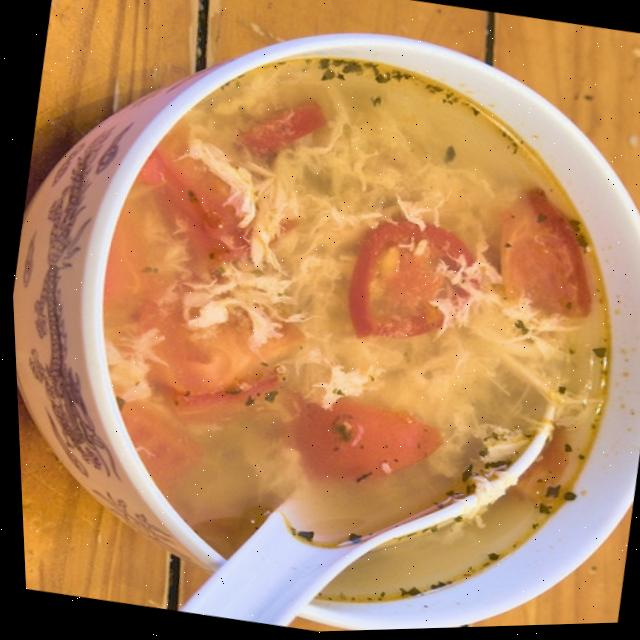汤锅炖物: (23, 0, 640, 639)
